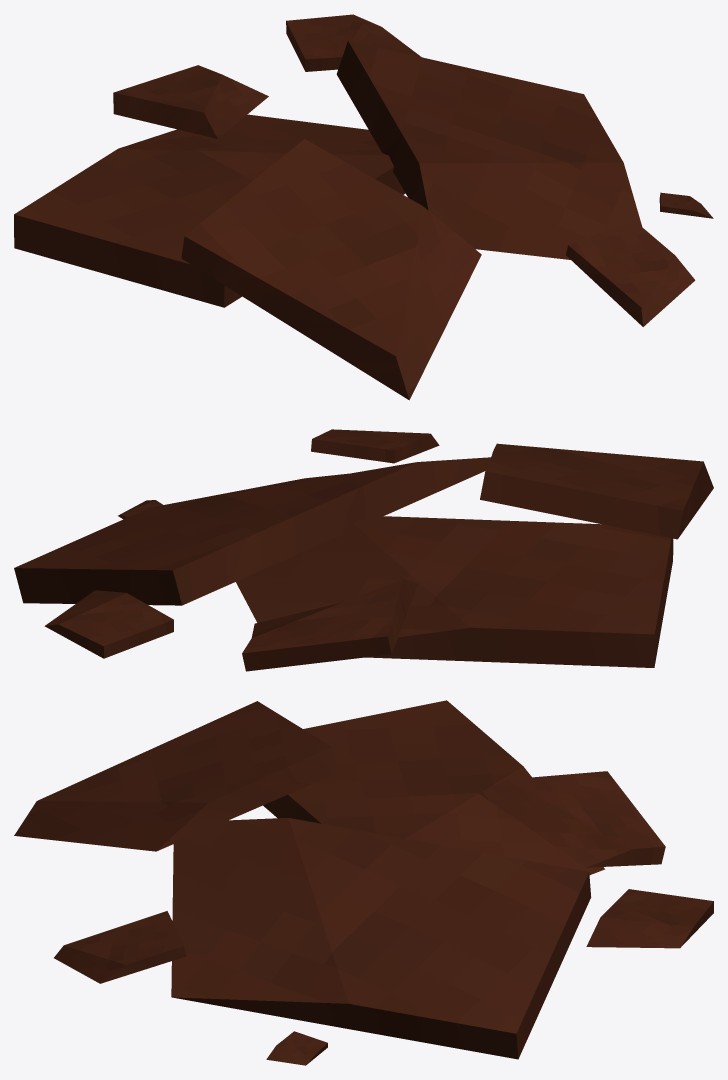
File: GingerbreadPieces.fbx
3 views of the same model, one above another, from view 1: azimuth 30°, elevation 25°; view 2: azimuth 150°, elevation 25°; view 3: azimuth 270°, elevation 25° (orthographic). The views are drawn at different scales.
Visible parts, largest first — view 1: Wall; view 2: Wall; view 3: Wall.
Part boxes in pixels (left/top/right/bottom): Wall: left=14, top=14, right=713, bottom=400; Wall: left=14, top=429, right=713, bottom=671; Wall: left=14, top=700, right=713, bottom=1065.
Size of the model in its own units: 36.71 by 8.59 by 38.15.
